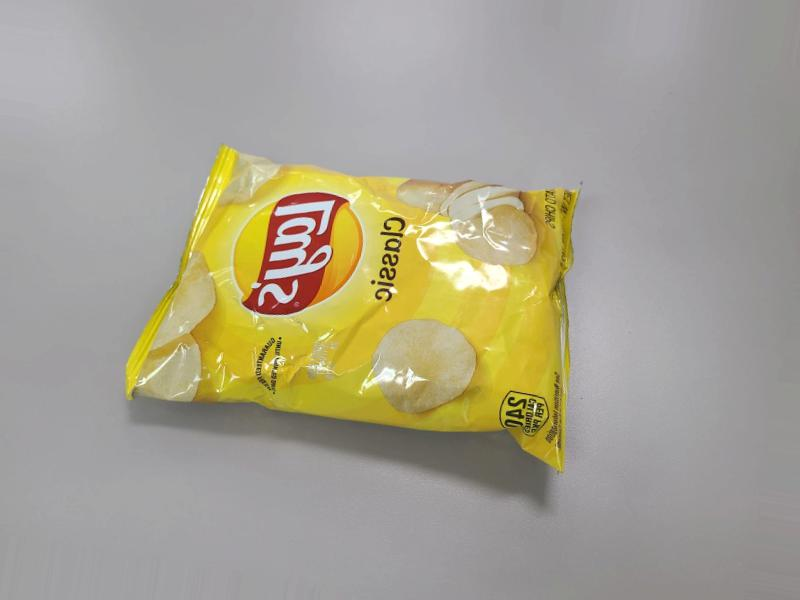lays: (115, 201, 574, 435)
